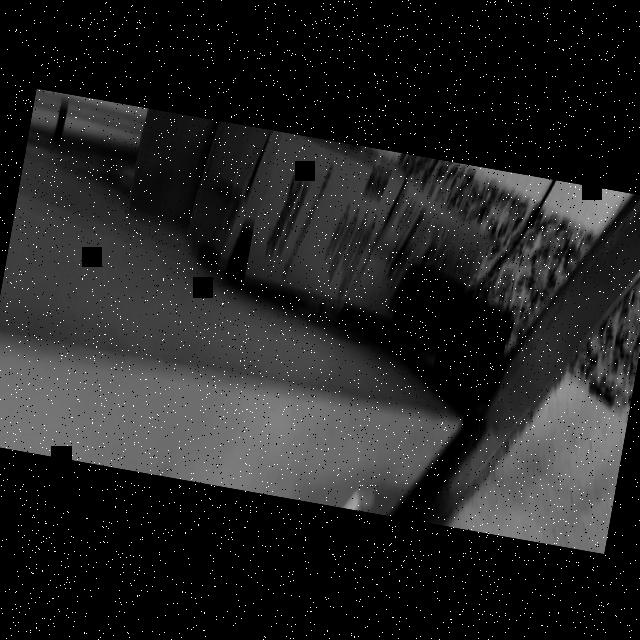cardboard_box: (109, 106, 411, 328), (338, 168, 502, 336)
